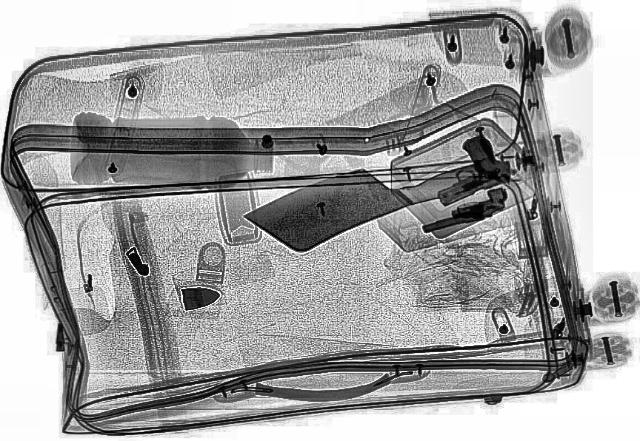Gun: (410, 131, 522, 205), (408, 178, 518, 242)
Knife: (237, 130, 515, 264)
